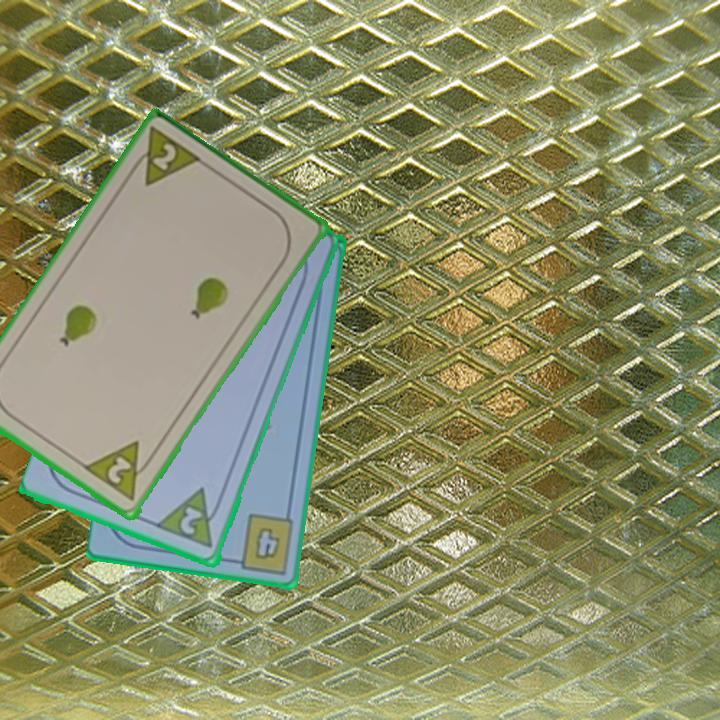2p: (124, 124, 206, 190), (81, 437, 159, 505), (176, 503, 206, 539)
4b: (227, 510, 298, 577)
